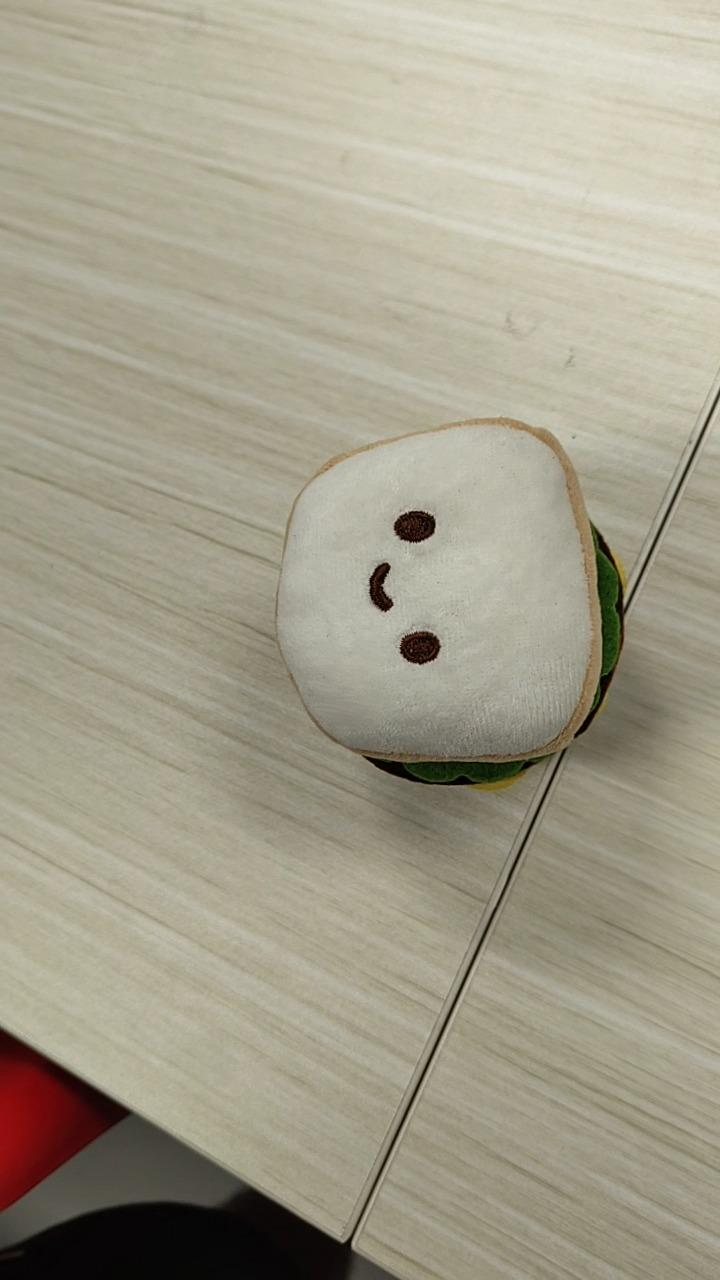objects: (273, 413, 627, 789)
